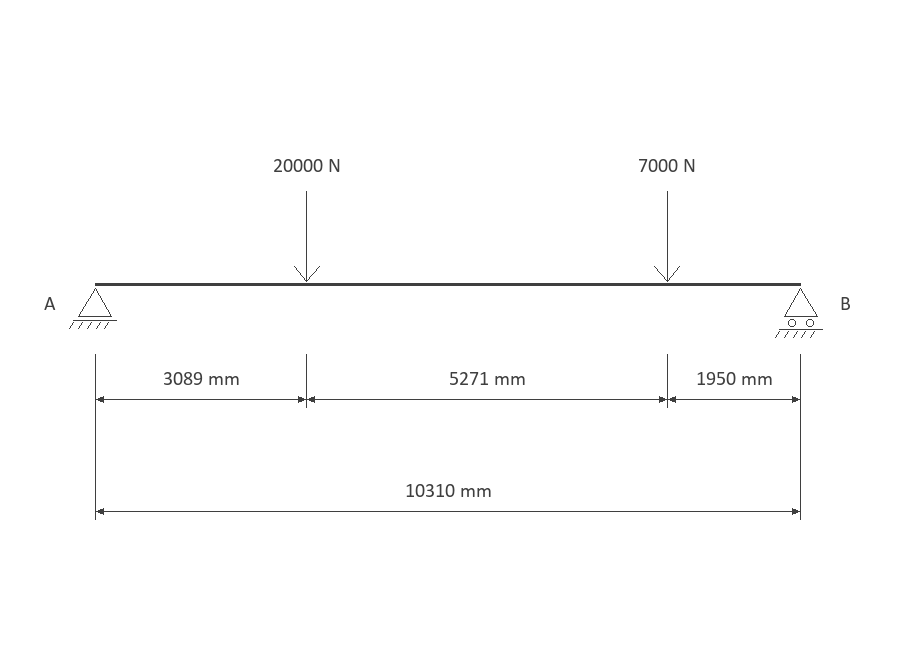pin_support: (69, 288, 117, 329)
point_load: (294, 191, 320, 282), (654, 191, 680, 282)
roller_support: (775, 288, 823, 338)
